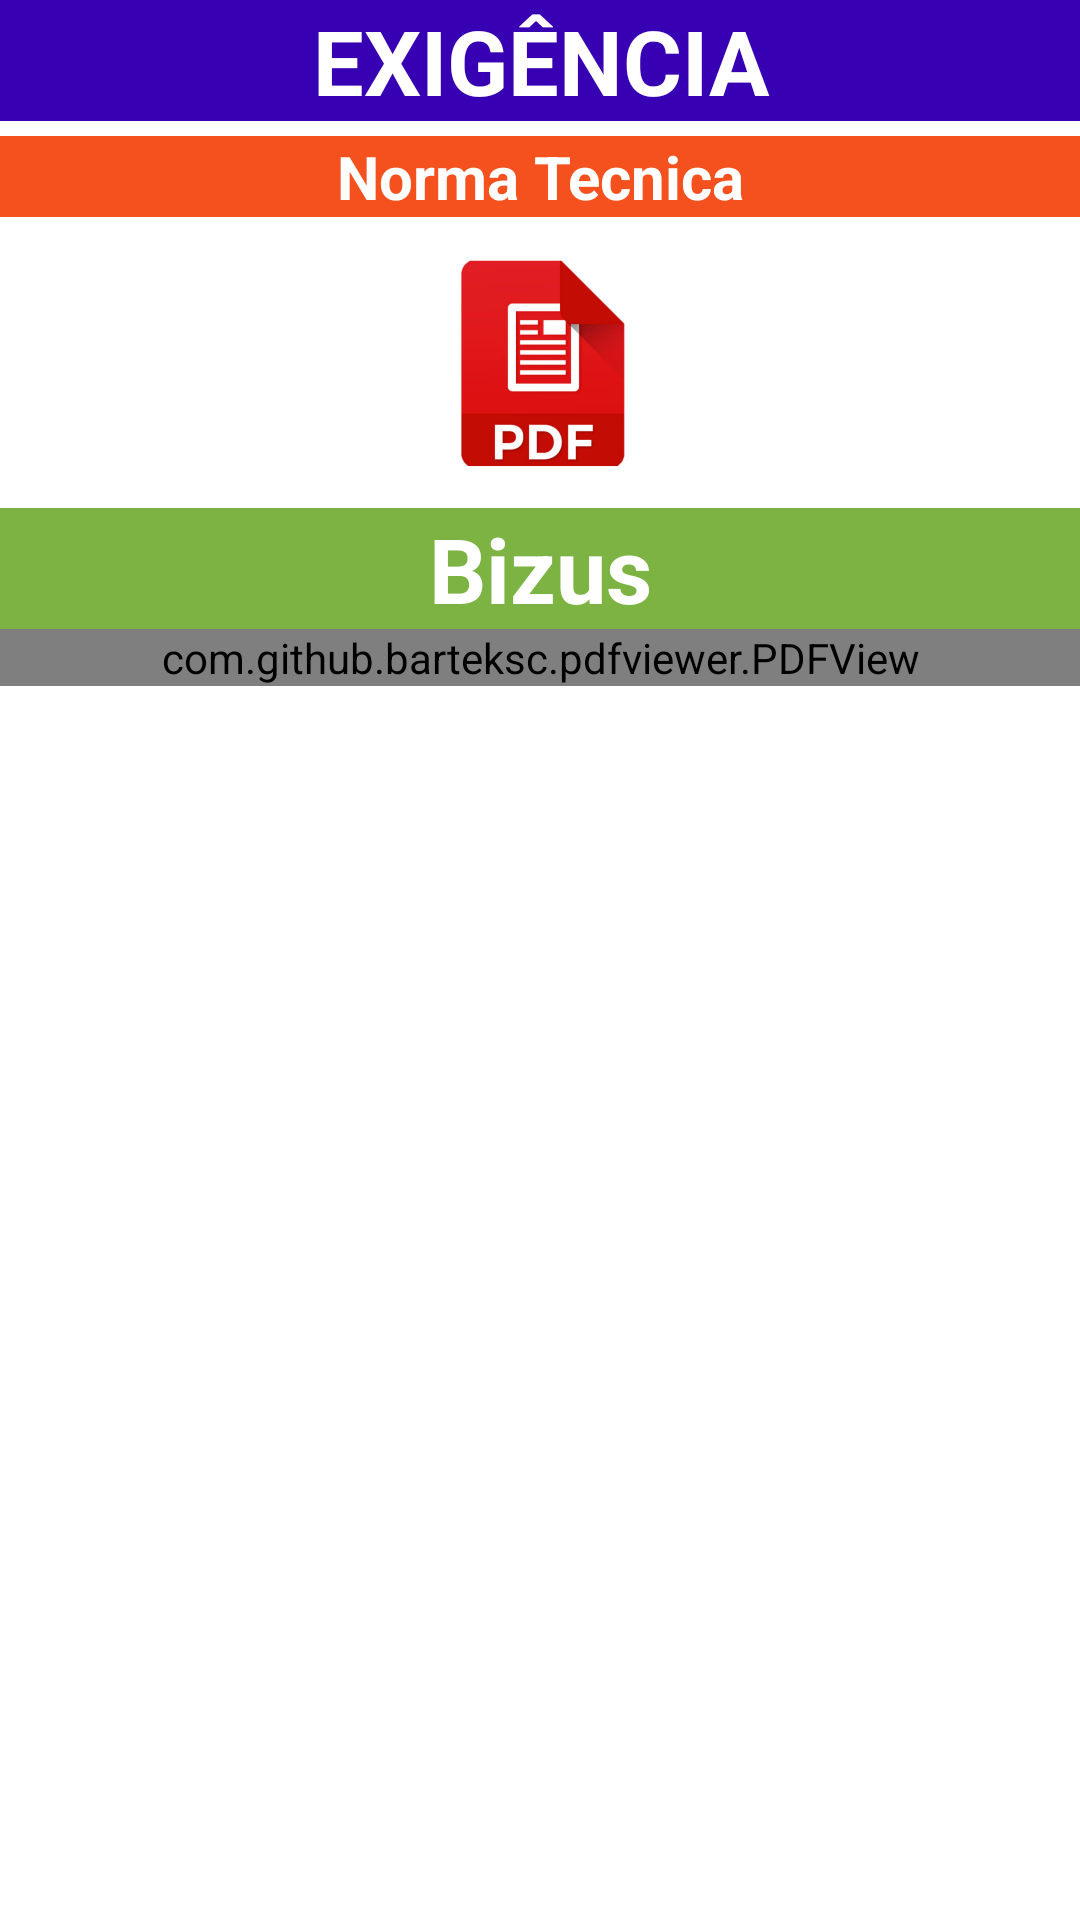

Icon click points for this 1080px x 1920px phone screenshot, format point (x, y):
Clique para Abrir: point (543, 363)
